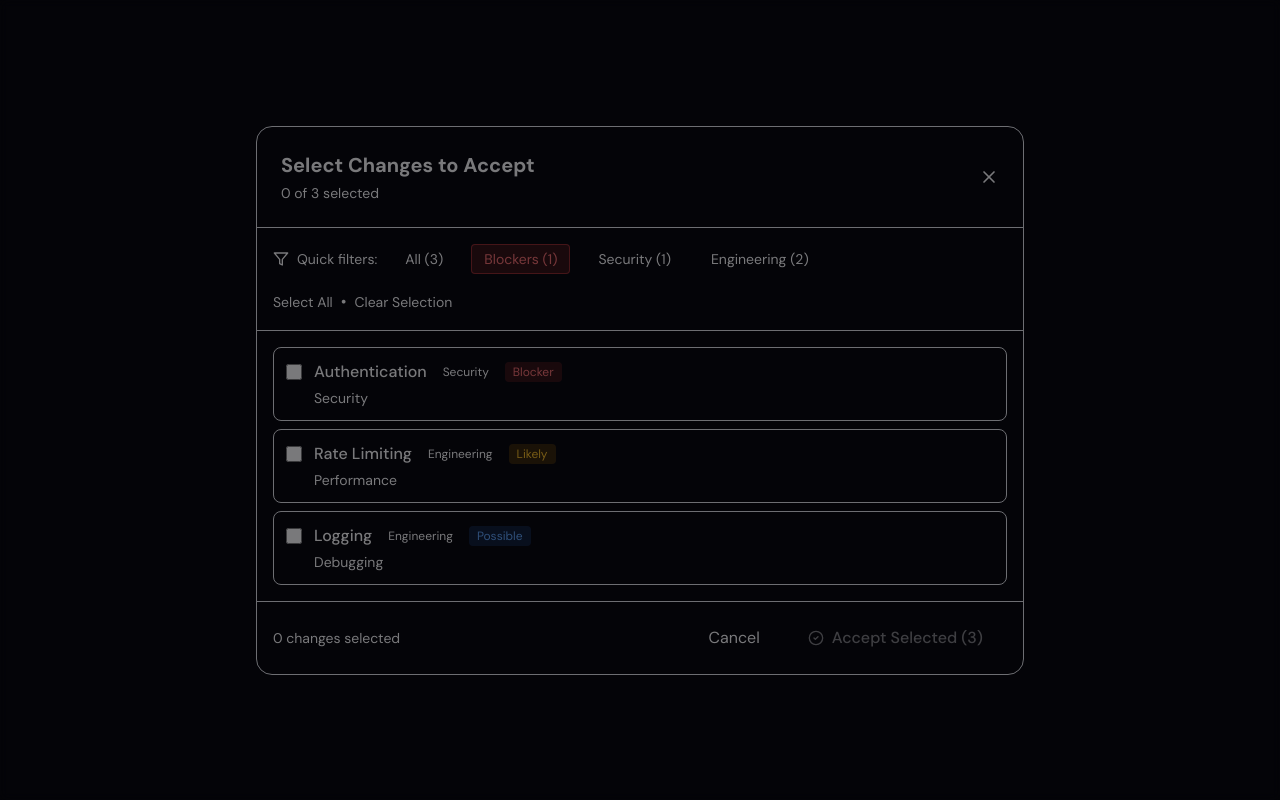
BulkAcceptPanel › can select individual changes
Click the checkbox labelled "Authentication security blocker Security".
click(294, 372)  # box [286,364,302,380]
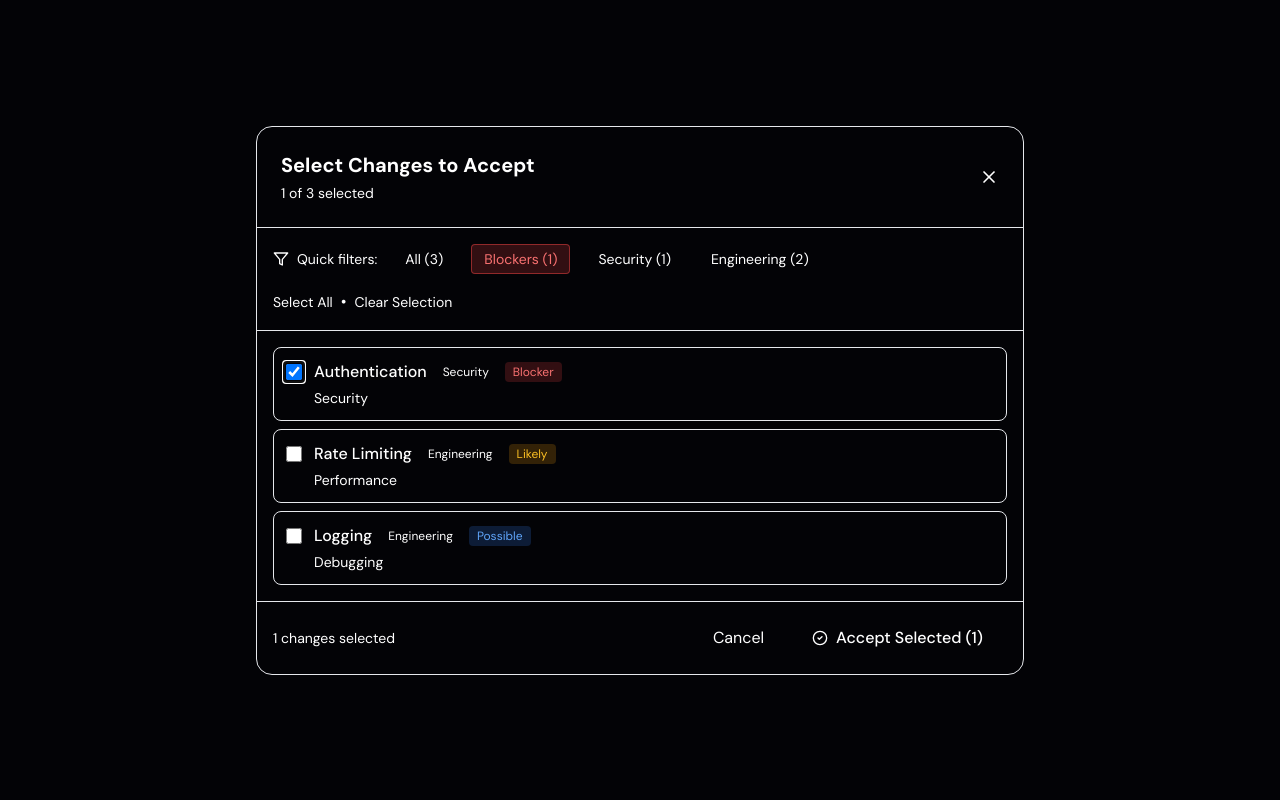
Check: the text "1 of 3 selected" is shown, box [281,184,374,202]
